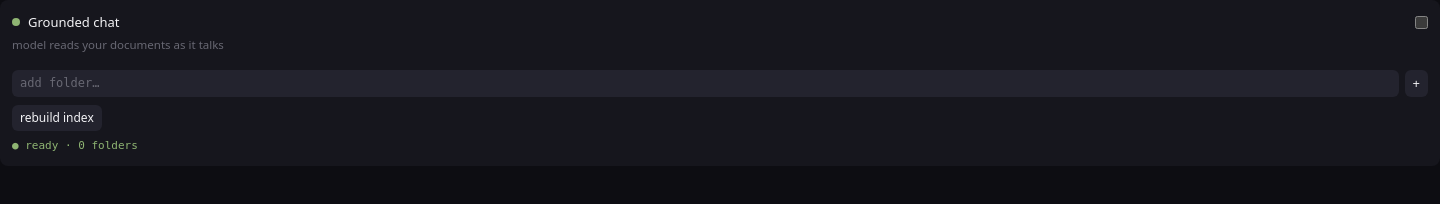
Test case: the grounding card's rebuild control › says the server's 400 sentence out loud too
The width and height of the screenshot is (1440, 204).
Click the button "rebuild index" at (57, 118), box [12,104,102,131]
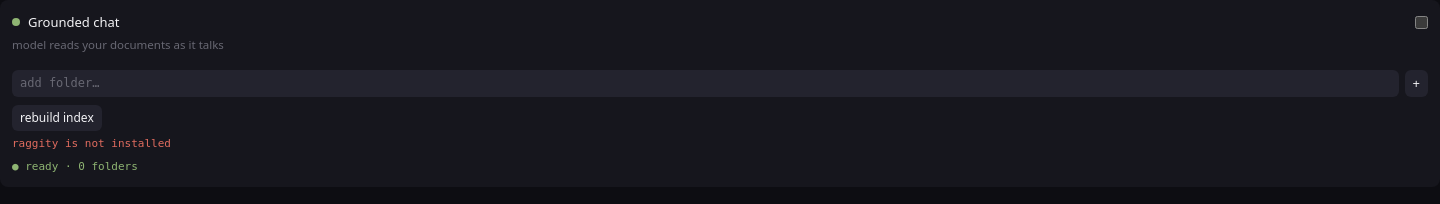
Expected: the message "raggity is not installed" is shown, [12,137,171,150]
